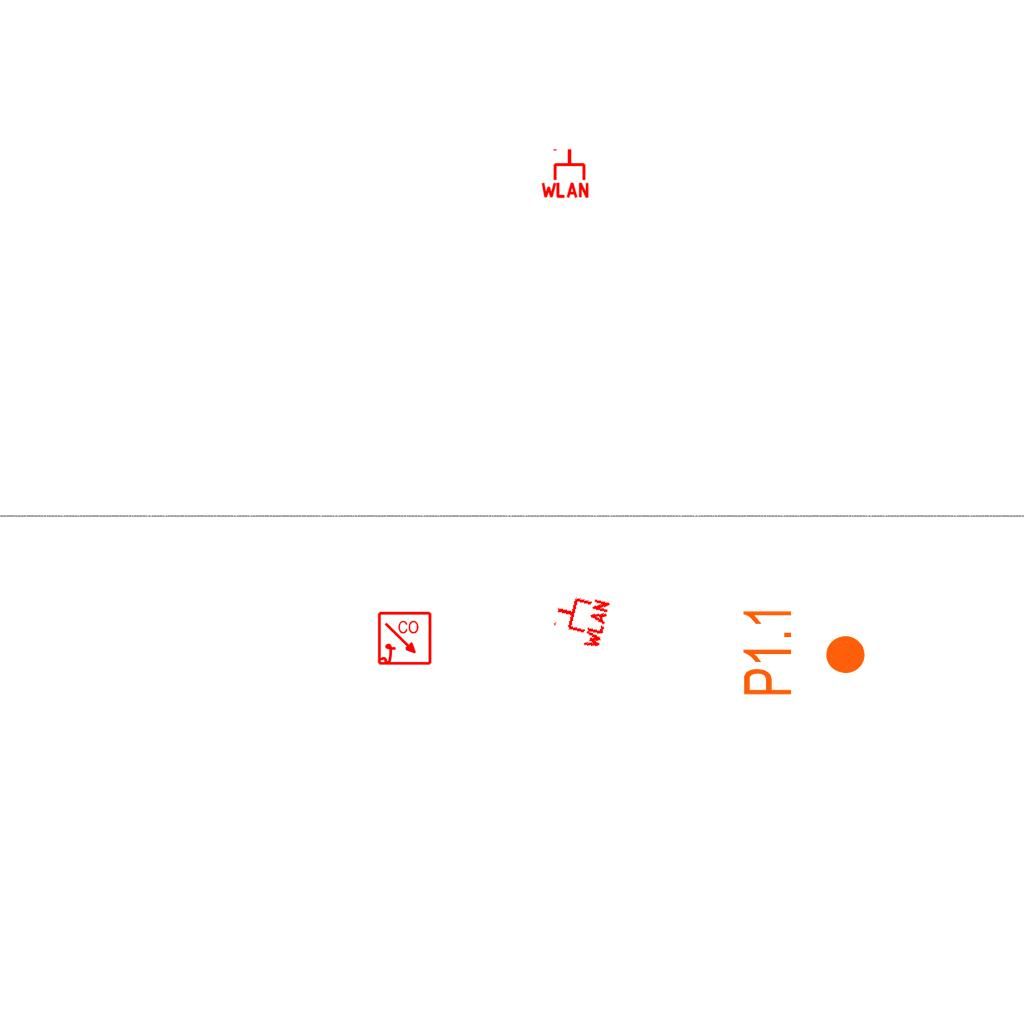Downlight_LED_Einbauleuchten_Flur: (740, 605, 868, 698)
ROA_Rauchmelder_optisch_mit_Signalgeber_(Sockelsirene): (377, 611, 433, 667)
WLAN: (548, 588, 612, 652), (539, 147, 591, 199)
